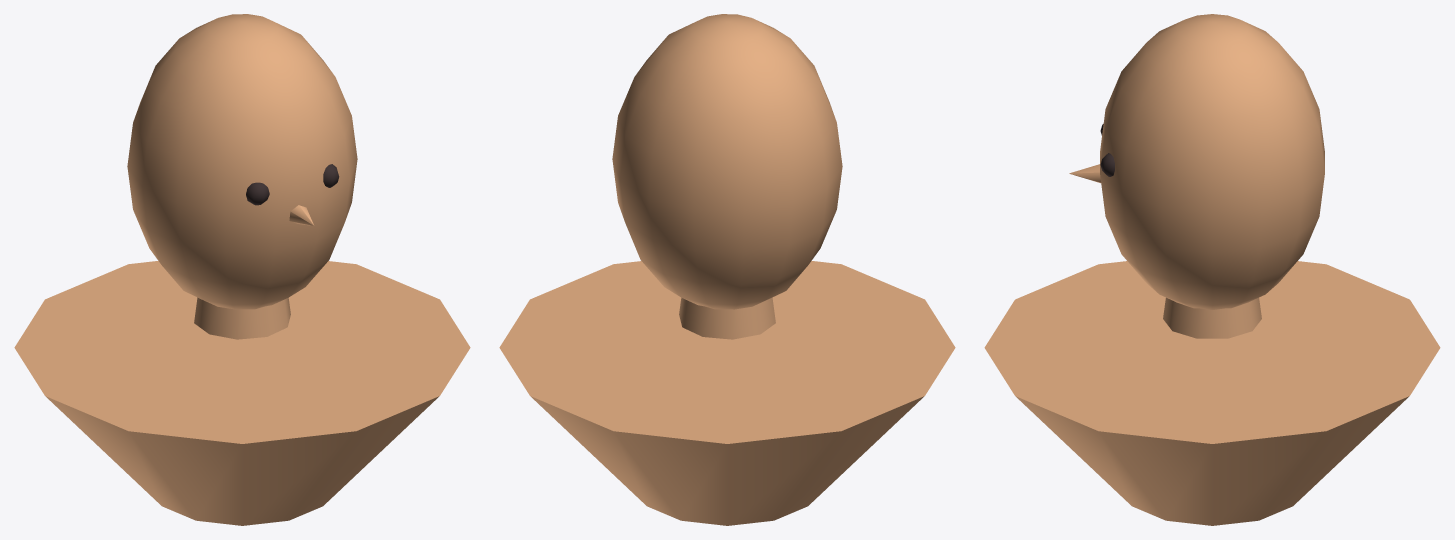
Rendered from raw_003.glb.
3 views of the same model, side by side, from view 1: azimuth 30°, elevation 25°; view 2: azimuth 150°, elevation 25°; view 3: azimuth 270°, elevation 25° (orthographic).
Size of the model in its own units: 1.93 by 2.17 by 1.93.
